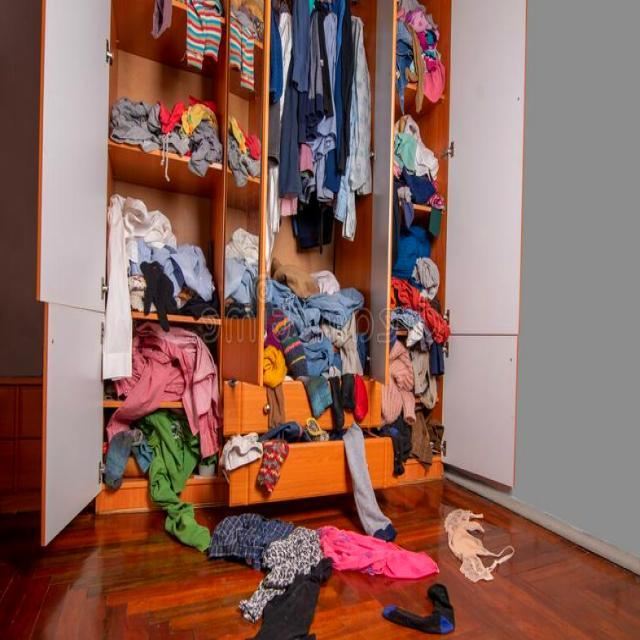clothes: (107, 332, 226, 478), (276, 18, 368, 200), (100, 209, 172, 383), (266, 286, 366, 397), (392, 278, 444, 424), (180, 0, 262, 76), (209, 503, 294, 574), (306, 530, 436, 576), (266, 557, 333, 640), (449, 504, 502, 592), (390, 579, 454, 640), (98, 102, 176, 150), (398, 121, 433, 226), (410, 8, 440, 114), (277, 518, 315, 591), (185, 102, 216, 162)
